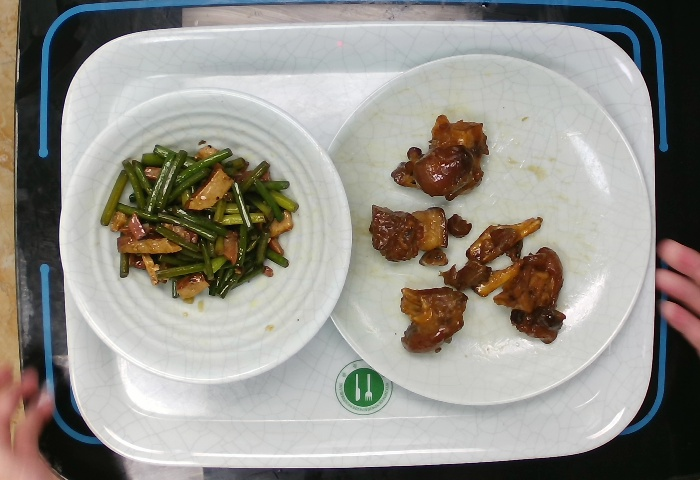JYsf-Da_Yuan_Pan: (309, 52, 657, 410)
JYsf-Xiao_Tang_Wan: (55, 86, 350, 388)
